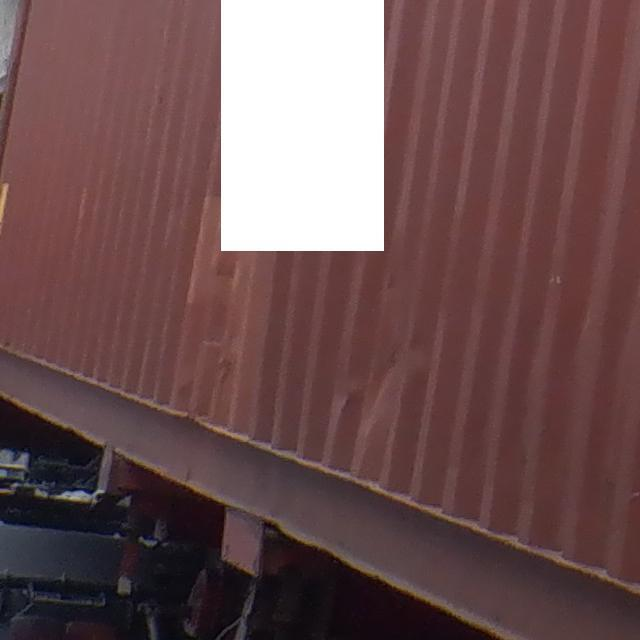dent: (327, 298, 442, 432), (178, 261, 259, 422)
